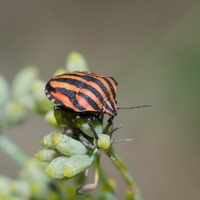insect: (45, 71, 116, 148)
